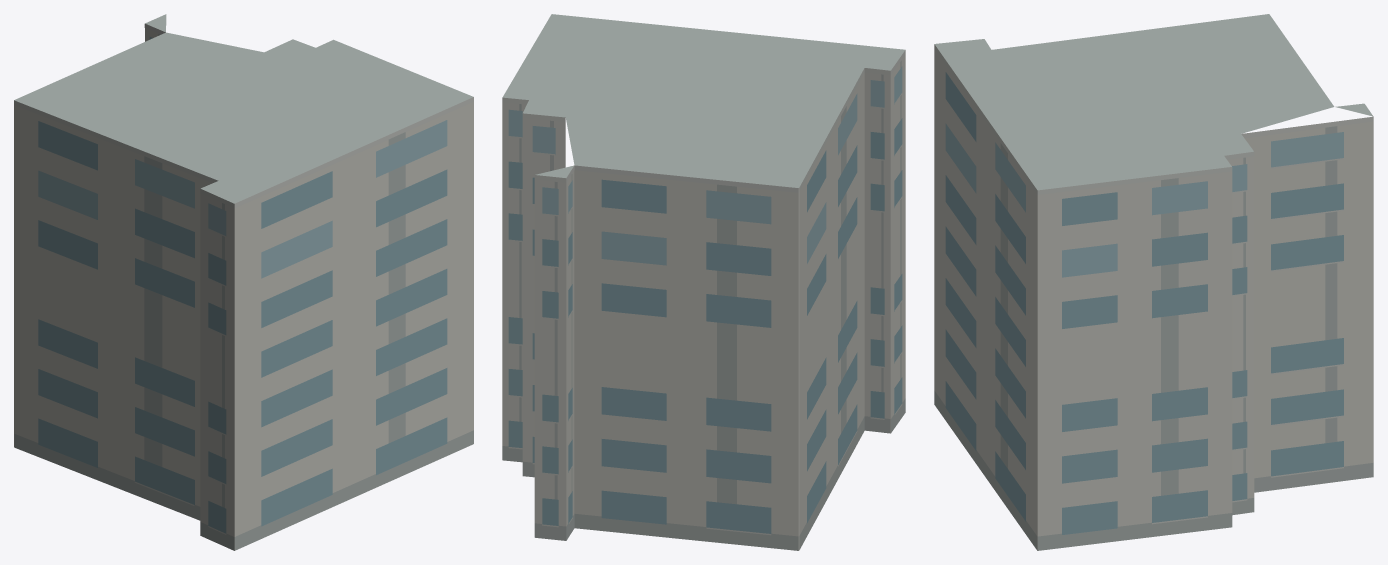
The model's file is survey-upis-32988533.glb.
3 renders of one model, left to right at view 1: azimuth 30°, elevation 25°; view 2: azimuth 150°, elevation 25°; view 3: azimuth 270°, elevation 25°, orthographic. The views are drawn at different scales.
Parts seen in each view (by area): view 1: survey-upis-32988533.tmp; view 2: survey-upis-32988533.tmp; view 3: survey-upis-32988533.tmp.
Part boxes in pixels (x1,y1,x2,y2): survey-upis-32988533.tmp: (14, 14, 473, 550); survey-upis-32988533.tmp: (502, 14, 905, 550); survey-upis-32988533.tmp: (934, 14, 1373, 550).
Bounding box in the file's own units: 19.53 × 18.6 × 20.55.
